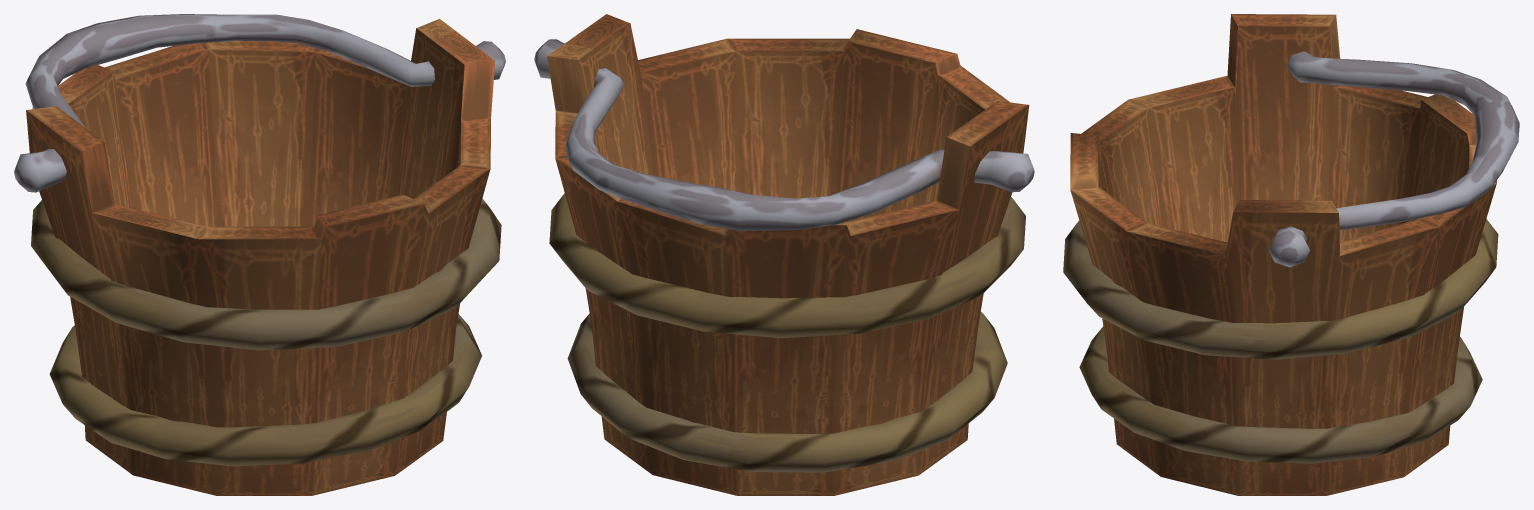
The model's file is Bucket_Wooden_1.gltf.
3 renders of one model, left to right at view 1: azimuth 30°, elevation 25°; view 2: azimuth 150°, elevation 25°; view 3: azimuth 270°, elevation 25°, orthographic. The views are drawn at different scales.
Parts seen in each view (by area): view 1: Bucket_Wooden_1; view 2: Bucket_Wooden_1; view 3: Bucket_Wooden_1.
Part boxes in pixels (left/top/right/bottom): Bucket_Wooden_1: left=14, top=14, right=505, bottom=495; Bucket_Wooden_1: left=534, top=14, right=1034, bottom=495; Bucket_Wooden_1: left=1063, top=14, right=1519, bottom=495.
Bounding box in the file's own units: 0.4339 × 0.2928 × 0.3835.
Materials: 2 (2 with a texture image).
